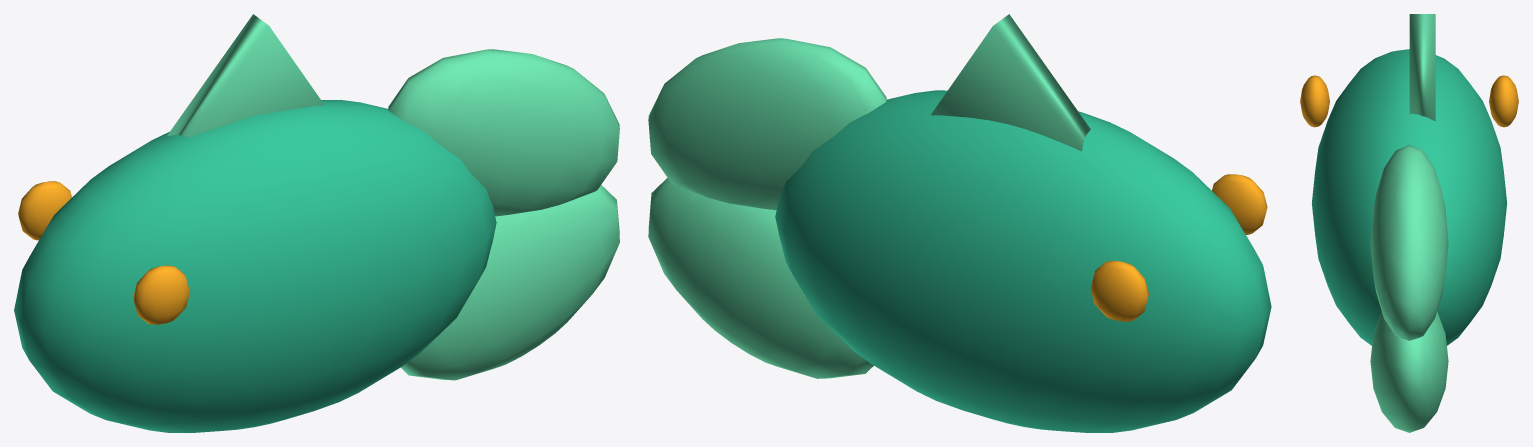
Rendered from jadecarp.fbx.
3 renders of one model, left to right at view 1: azimuth 30°, elevation 25°; view 2: azimuth 150°, elevation 25°; view 3: azimuth 270°, elevation 25°, orthographic. The views are drawn at different scales.
Visible parts, largest first — view 1: jadecarp; view 2: jadecarp; view 3: jadecarp.
Part boxes in pixels (x1,y1,x2,y2): jadecarp: (14, 14, 619, 432); jadecarp: (648, 14, 1271, 432); jadecarp: (1300, 14, 1518, 432).
Size of the model in its own units: 100 by 63.39 by 38.64.
1 material, 1 textured.
